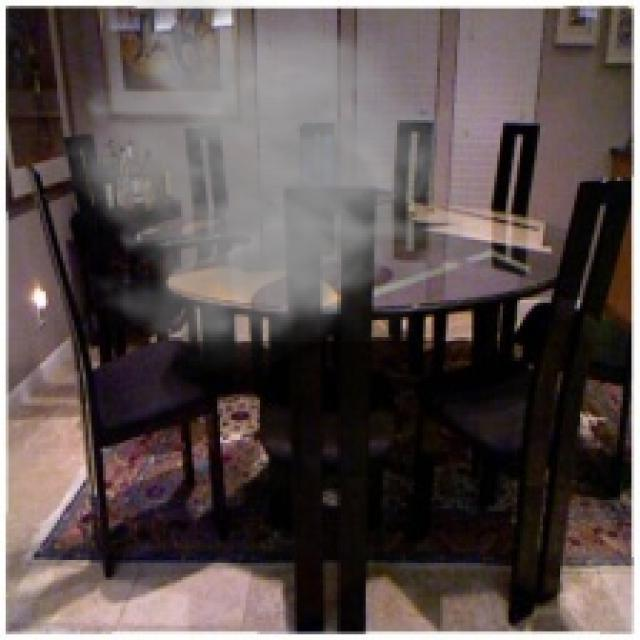Smoke: (51, 0, 472, 380)
